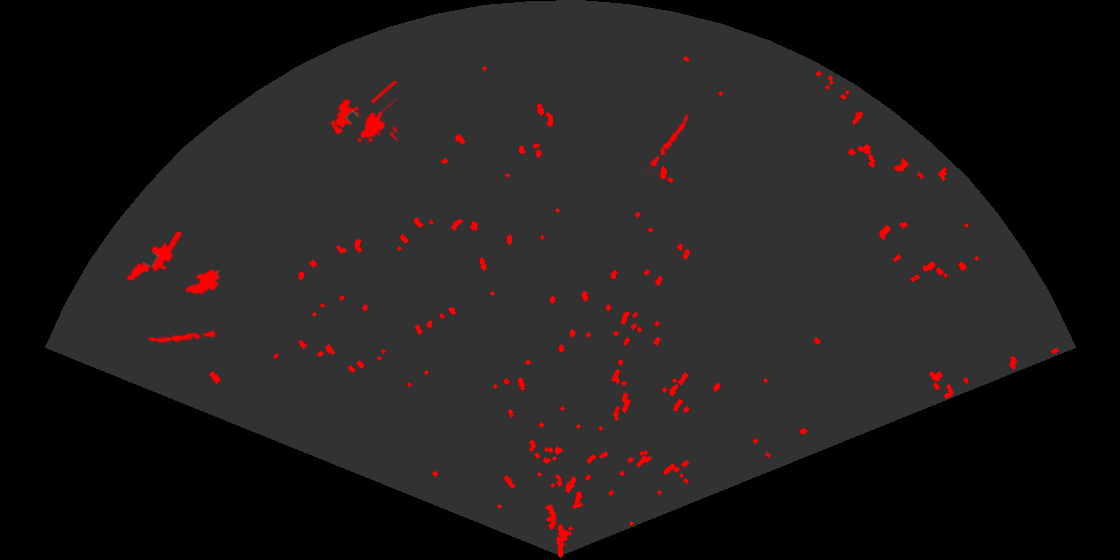AUV: (183, 267, 221, 296)
cage: (333, 81, 397, 144)
chain: (644, 111, 693, 175), (146, 329, 217, 345)
frogman: (125, 232, 181, 283)
